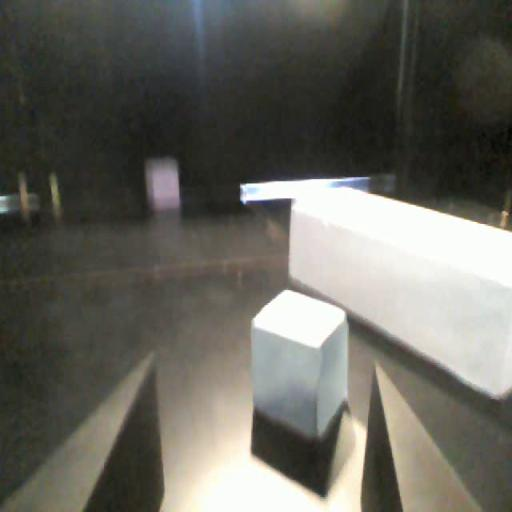cube: (247, 286, 353, 442)
